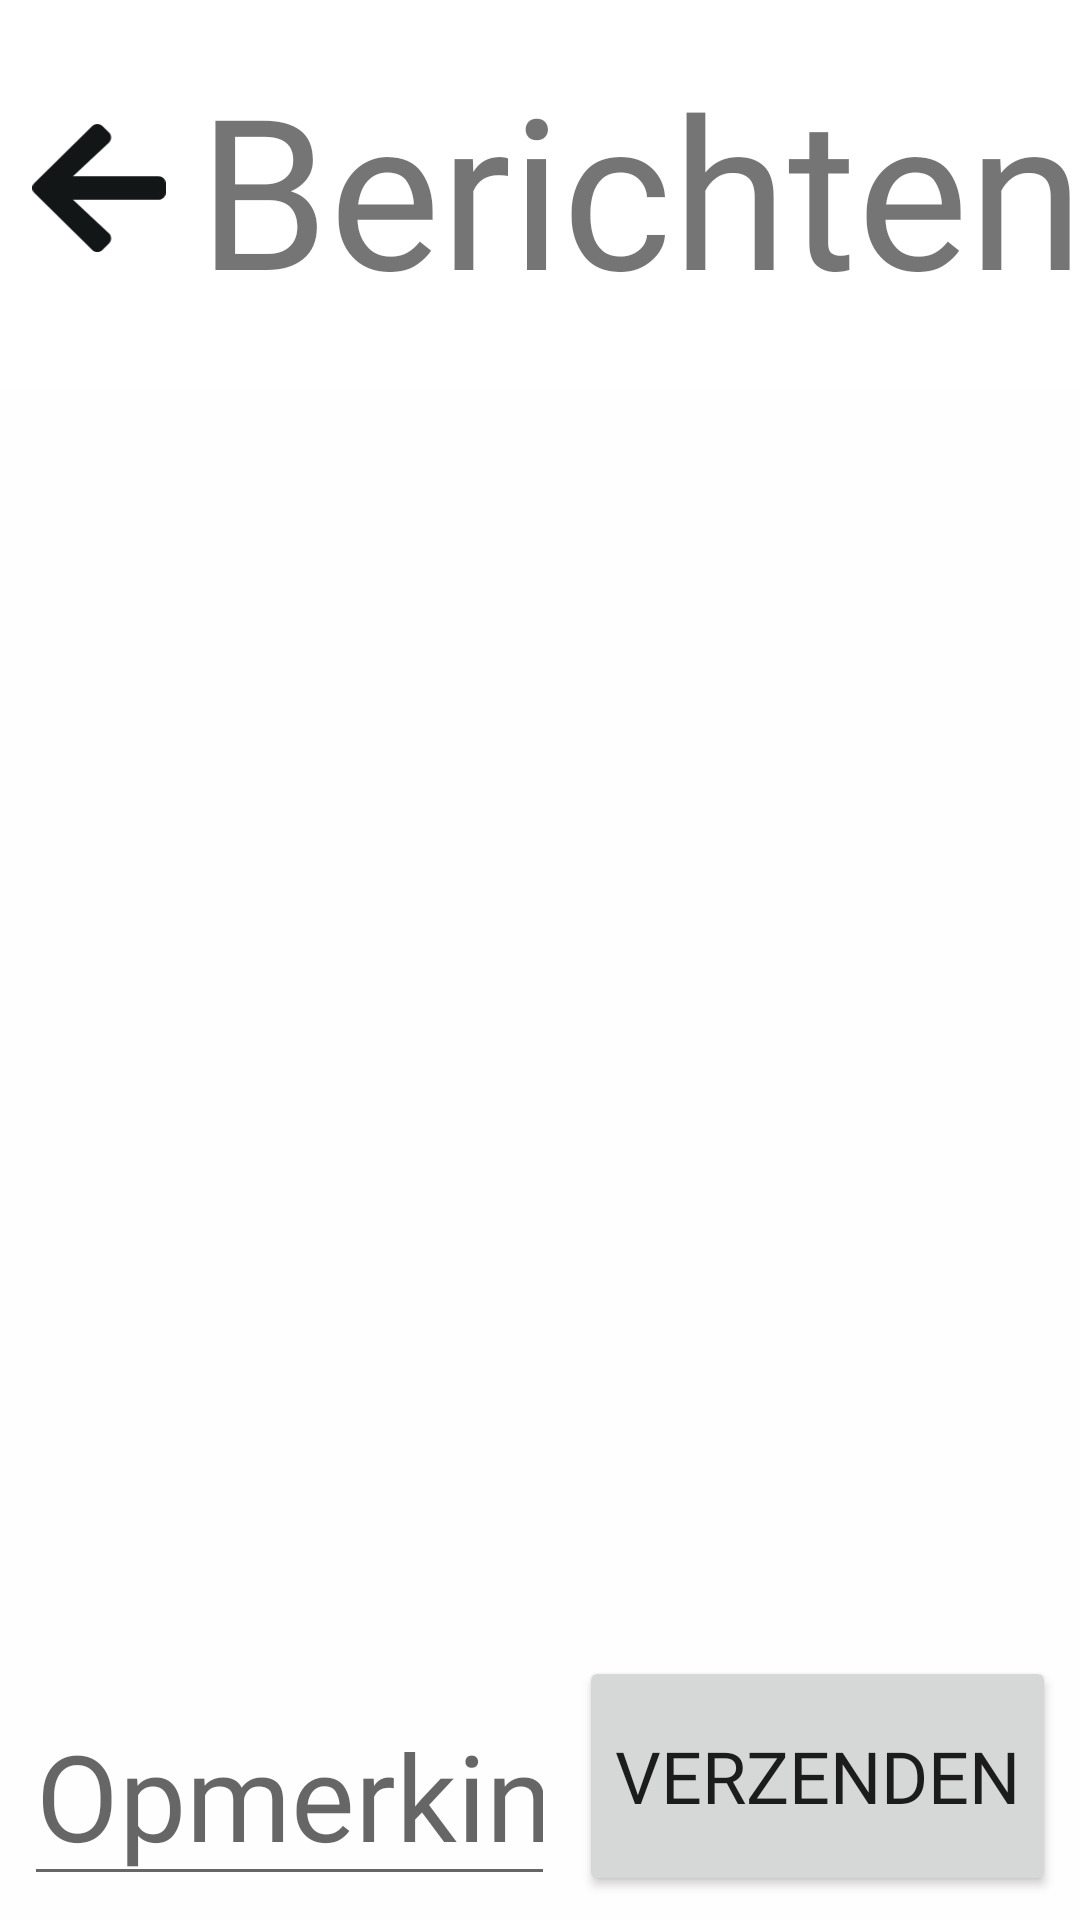

Where icons sit on this 1080x1920 app screen, as (x1, y1, x2, y2):
arrow left: (32, 124, 166, 252)
